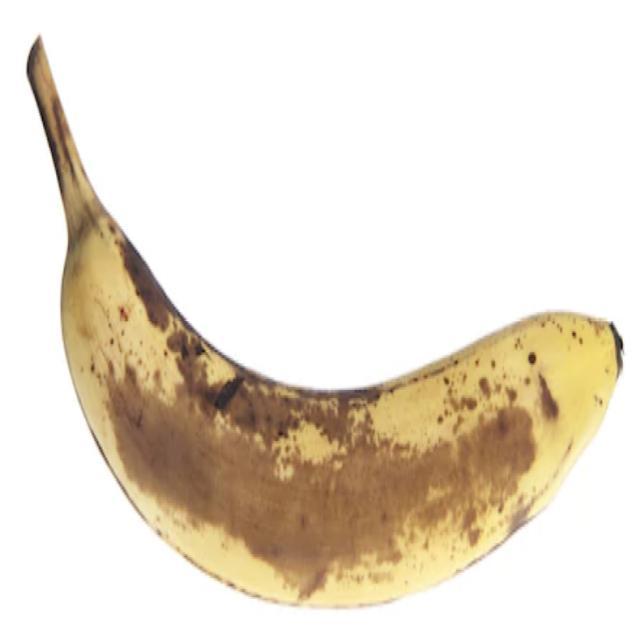rotten-banana: (50, 78, 625, 604)
